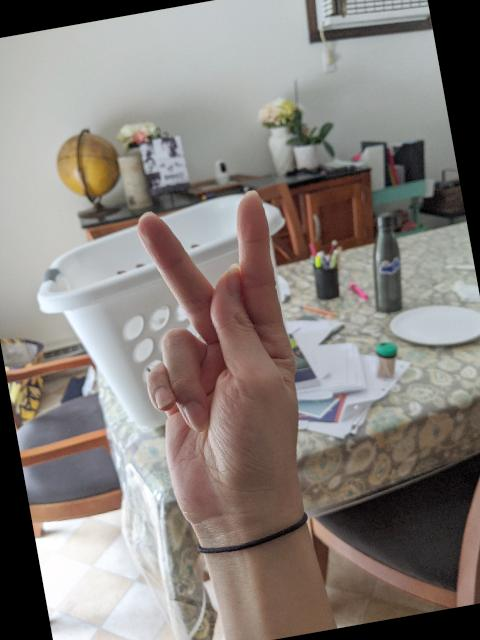K: (110, 182, 329, 547)
